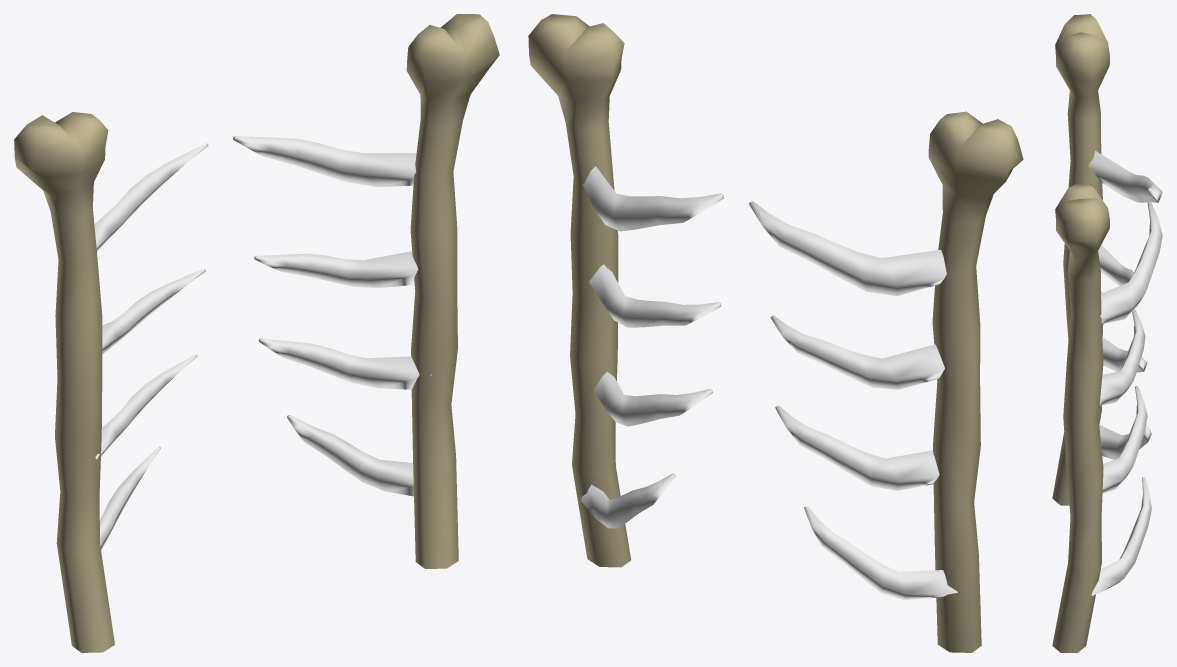
The model's file is bone_chairBack.glb.
The picture shows the model from 3 angles, left to right: view 1: azimuth 30°, elevation 25°; view 2: azimuth 150°, elevation 25°; view 3: azimuth 270°, elevation 25°; orthographic projection. The views are drawn at different scales.
Visible parts, largest first — view 1: LargeBone, LargeBone.001, mammothTusk.008, mammothTusk.009, mammothTusk.010, mammothTusk.011, mammothTusk, mammothTusk.001, mammothTusk.002, mammothTusk.003; view 2: LargeBone, LargeBone.001, mammothTusk, mammothTusk.001, mammothTusk.002, mammothTusk.008, mammothTusk.003, mammothTusk.009, mammothTusk.010, mammothTusk.011; view 3: LargeBone.001, LargeBone, mammothTusk.008, mammothTusk, mammothTusk.011, mammothTusk.010, mammothTusk.009, mammothTusk.003, mammothTusk.001, mammothTusk.002.
Part boxes in pixels (x1,y1,x2,y2): LargeBone: (14, 112, 114, 652); LargeBone.001: (406, 14, 499, 568); mammothTusk.008: (233, 136, 416, 186); mammothTusk.009: (254, 251, 418, 287); mammothTusk.010: (258, 338, 431, 389); mammothTusk.011: (287, 415, 413, 496); mammothTusk: (94, 143, 208, 251); mammothTusk.001: (102, 268, 205, 354); mammothTusk.002: (95, 354, 197, 459); mammothTusk.003: (99, 446, 160, 550); LargeBone: (928, 111, 1023, 652); LargeBone.001: (528, 14, 631, 567); mammothTusk: (749, 201, 946, 295); mammothTusk.001: (770, 315, 944, 389); mammothTusk.002: (775, 405, 939, 490); mammothTusk.008: (582, 166, 723, 231); mammothTusk.003: (804, 506, 957, 600); mammothTusk.009: (589, 264, 721, 327); mammothTusk.010: (593, 372, 712, 426); mammothTusk.011: (581, 473, 675, 528); LargeBone.001: (1052, 184, 1109, 652); LargeBone: (1052, 14, 1109, 505); mammothTusk.008: (1100, 201, 1162, 323); mammothTusk: (1088, 151, 1162, 202); mammothTusk.011: (1091, 476, 1151, 595); mammothTusk.010: (1102, 386, 1147, 493); mammothTusk.009: (1099, 309, 1145, 405); mammothTusk.003: (1099, 424, 1151, 459); mammothTusk.001: (1098, 245, 1133, 285); mammothTusk.002: (1102, 337, 1147, 372).
Bounding box in the file's own units: 0.5281 × 0.5649 × 0.122.
